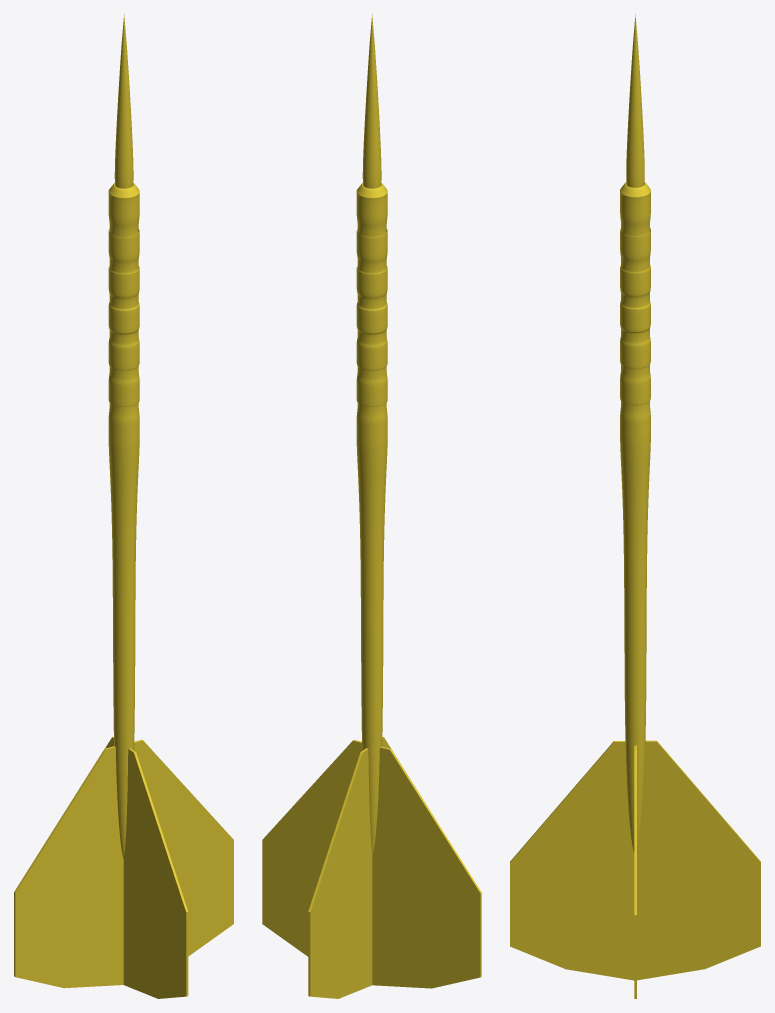
File: Dart_gelb.fbx
3 views of the same model, side by side, from view 1: azimuth 30°, elevation 25°; view 2: azimuth 150°, elevation 25°; view 3: azimuth 270°, elevation 25° (orthographic).
Parts seen in each view (by area): view 1: body; view 2: body; view 3: body.
Part boxes in pixels (left/top/right/bottom): body: left=14, top=14, right=233, bottom=998; body: left=262, top=14, right=481, bottom=998; body: left=510, top=14, right=760, bottom=998.
Size of the model in its own units: 356 by 1511 by 356.
